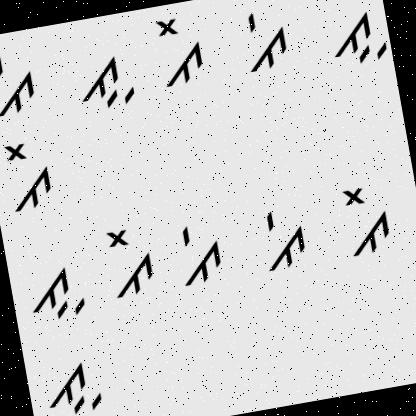kah: (68, 46, 144, 116), (318, 2, 390, 74), (35, 350, 110, 416), (20, 262, 90, 326)
ke: (226, 0, 293, 76), (167, 210, 228, 290), (254, 201, 316, 278), (0, 48, 42, 127)
ko: (328, 172, 406, 261), (143, 8, 210, 93), (98, 219, 162, 304), (0, 131, 62, 216)
